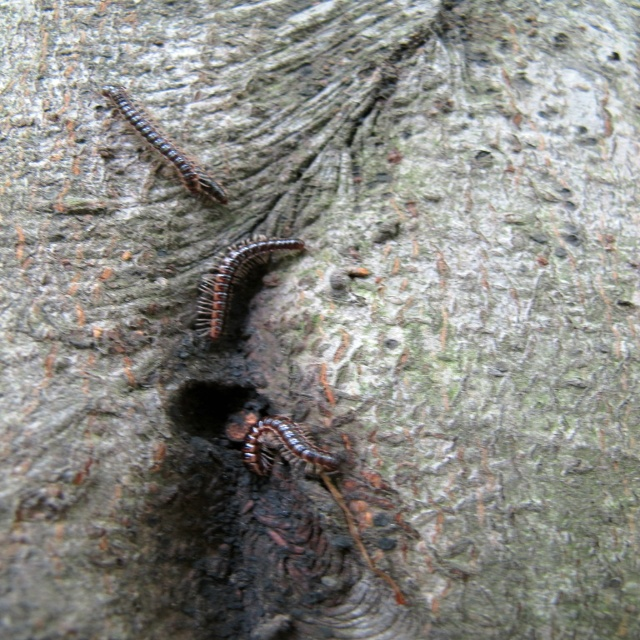Centipede: (95, 84, 241, 202), (190, 233, 306, 341), (241, 412, 346, 478)
